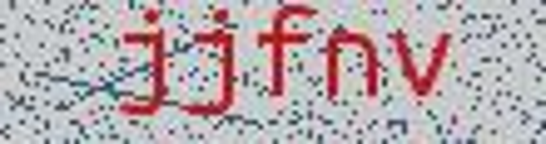f: (250, 2, 323, 107)
j: (179, 3, 247, 125), (110, 9, 171, 123)
n: (323, 18, 385, 111)
v: (387, 20, 456, 101)
